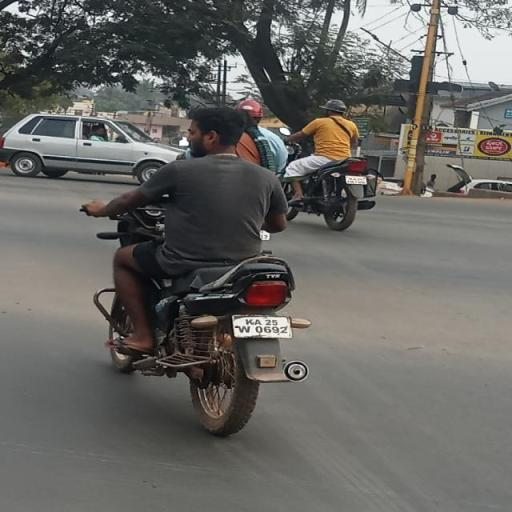bike: (72, 104, 330, 438)
numberplate: (230, 314, 292, 336)
withouthelmet: (187, 110, 246, 156)
